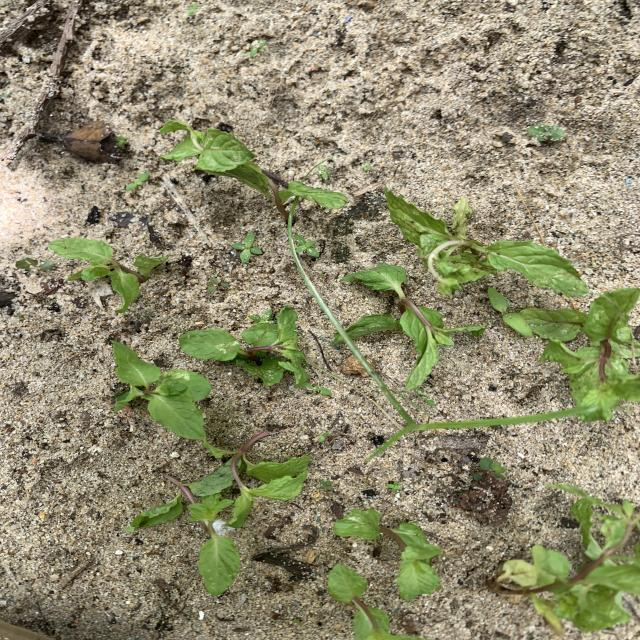crop: (491, 484, 638, 632), (385, 192, 585, 295), (343, 263, 483, 388), (162, 124, 343, 214), (521, 288, 639, 420), (134, 480, 240, 595), (180, 306, 308, 386), (199, 433, 309, 526), (334, 509, 441, 599), (114, 341, 209, 439), (48, 239, 167, 311), (328, 564, 422, 639), (189, 491, 239, 595)
weed: (297, 256, 585, 457), (489, 289, 526, 334), (232, 233, 261, 261), (472, 458, 506, 479), (528, 125, 564, 141), (294, 235, 318, 256), (16, 258, 53, 271), (126, 172, 148, 189), (306, 163, 329, 178), (208, 278, 232, 291), (249, 40, 266, 55), (387, 481, 401, 491), (115, 136, 127, 147), (320, 480, 332, 489)
